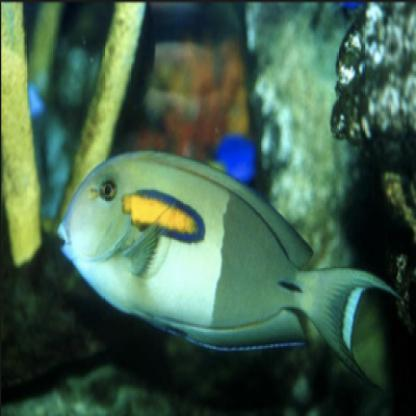surgeon: (58, 149, 404, 397)
